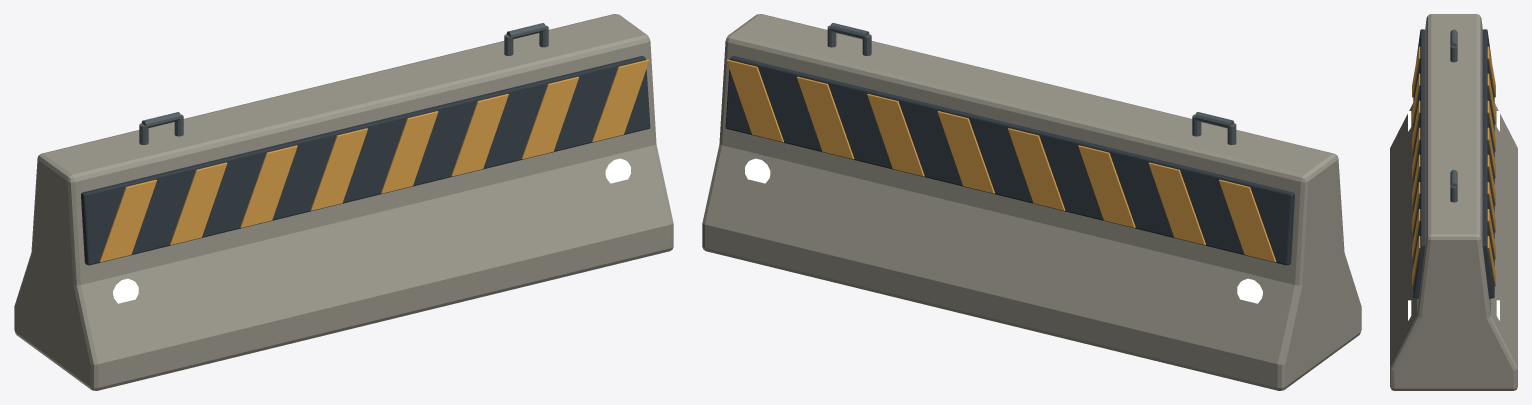
Rendered from BetonPolisi.fbx.
The picture shows the model from 3 angles, left to right: view 1: azimuth 30°, elevation 25°; view 2: azimuth 150°, elevation 25°; view 3: azimuth 270°, elevation 25°; orthographic projection. The views are drawn at different scales.
Parts seen in each view (by area): view 1: BetonPolisi; view 2: BetonPolisi; view 3: BetonPolisi.
Part boxes in pixels (x1,y1,x2,y2): BetonPolisi: (14,14,673,390); BetonPolisi: (702,14,1361,390); BetonPolisi: (1390,14,1517,390).
Size of the model in its own units: 265 by 96.28 by 64.
